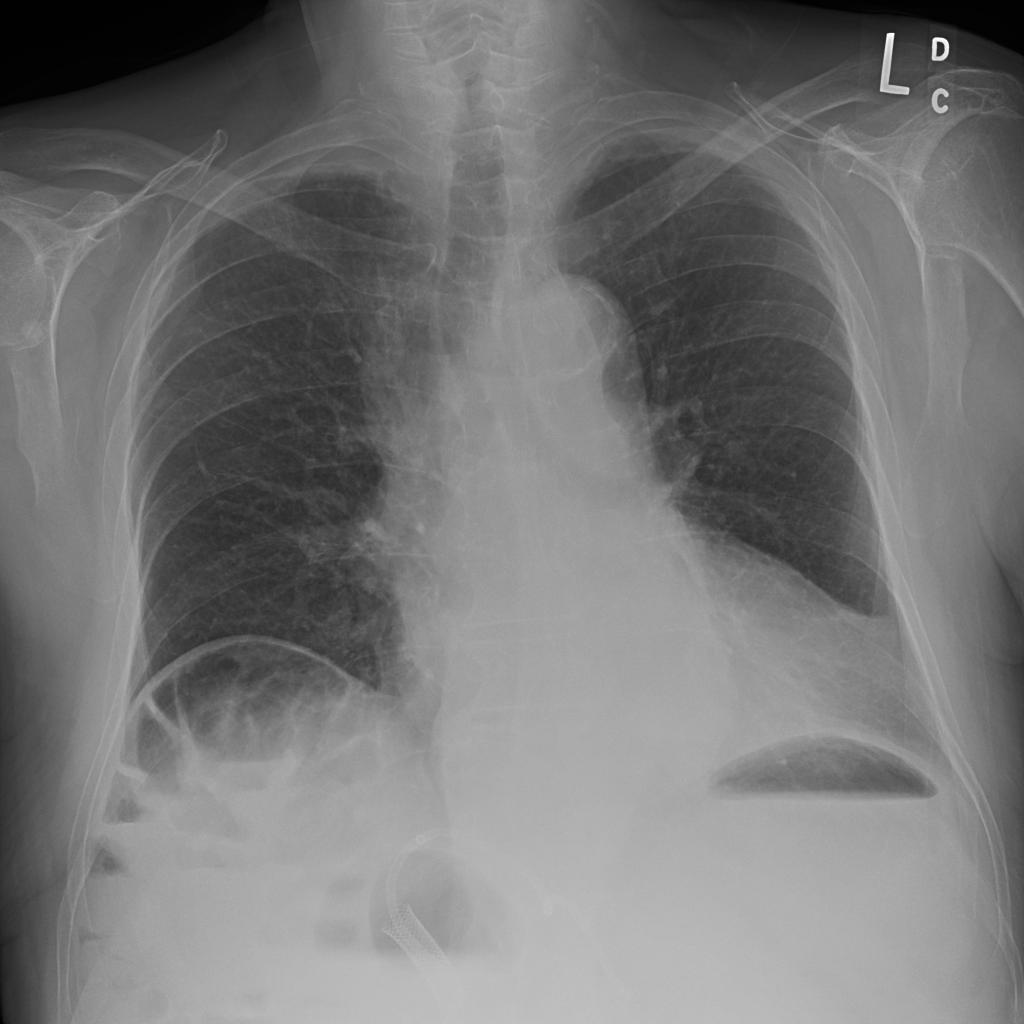Nodule: (62, 279, 111, 326), (58, 322, 90, 353)
